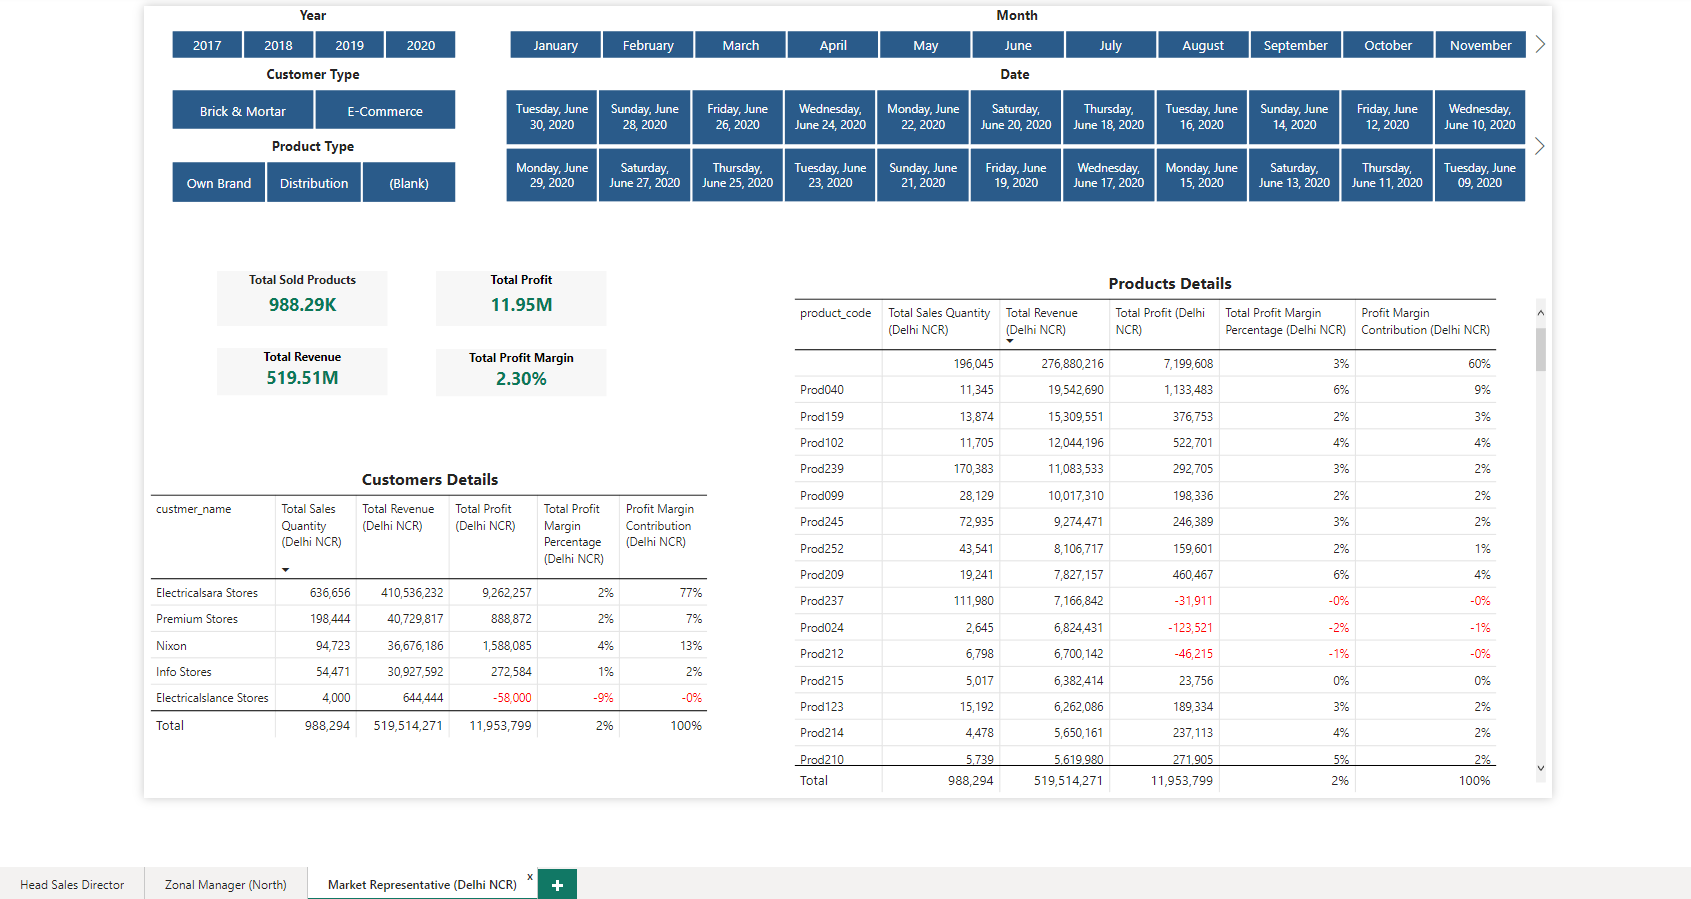

What the dashboard file says about the page in this screenshot:
{"tool":"powerbi","page":{"name":"Market Representative (Delhi NCR)","canvas":[1280,720],"ordinal":2},"visuals":[{"type":"slicer","title":"Month","fields":{"Values":["sales insights of mg date.month_name"]},"box":[307,0,973,53],"z":0},{"type":"slicer","title":"Date","fields":{"Values":["sales insights of mg date.date"]},"box":[304,54,976,131],"z":1000},{"type":"card","title":"Total Revenue","fields":{"Values":["Base Measures.Total Revenue (Delhi NCR)"]},"box":[66.4,311.2,155,43],"z":2000},{"type":"card","title":"Total Sold Products","fields":{"Values":["Base Measures.Total Sales Quantity (Delhi)"]},"box":[66.8,240.8,155,50],"z":3000},{"type":"card","title":"Total Profit","fields":{"Values":["Base Measures.Total Profit (Delhi NCR)"]},"box":[265.7,241.1,155,50],"z":4000},{"type":"slicer","title":"Year","fields":{"Values":["sales insights of mg date.year"]},"box":[0,0,307.1,53.4],"z":5000},{"type":"slicer","title":"Customer Type","fields":{"Values":["sales insights of mg customers.customer_type"]},"box":[0,54,307,65],"z":6000},{"type":"slicer","title":"Product Type","fields":{"Values":["sales insights of mg products.product_type"]},"box":[0,119,307,66],"z":7000},{"type":"card","title":"Total Profit Margin","fields":{"Values":["Base Measures.Total Profit Margin Percentage (Delhi NCR)"]},"box":[265.3,311.6,155,43],"z":8000},{"type":"tableEx","title":"Customers Details","fields":{"Values":["sales insights of mg customers.custmer_name","Base Measures.Total Sales Quantity (Delhi)","Base Measures.Total Revenue (Delhi NCR)","Base Measures.Total Profit (Delhi NCR)","Base Measures.Total Profit Margin Percentage (Delhi NCR)","Base Measures.Profit Margin Contribution (Delhi NCR)"]},"box":[0,418.9,520,301.1],"z":9000},{"type":"tableEx","title":"Products Details","fields":{"Values":["sales insights of mg products.product_code","Base Measures.Total Sales Quantity (Delhi)","Base Measures.Total Revenue (Delhi NCR)","Base Measures.Total Profit (Delhi NCR)","Base Measures.Total Profit Margin Percentage (Delhi NCR)","Base Measures.Profit Margin Contribution (Delhi NCR)"]},"box":[585.6,241.1,694.4,478.9],"z":10000}]}

Visuals, with their boxes on the page's 1280x720 design canvas (x1, y1, x2, y2). These are canvas units, not pixel positions in the 1691x899 screenshot, which may show the page scaled, cropped or inside an application window:
"Month" slicer: 307/0/1280/53
"Date" slicer: 304/54/1280/185
"Total Revenue" card: 66/311/221/354
"Total Sold Products" card: 67/241/222/291
"Total Profit" card: 266/241/421/291
"Year" slicer: 0/0/307/53
"Customer Type" slicer: 0/54/307/119
"Product Type" slicer: 0/119/307/185
"Total Profit Margin" card: 265/312/420/355
"Customers Details" tableEx: 0/419/520/720
"Products Details" tableEx: 586/241/1280/720
